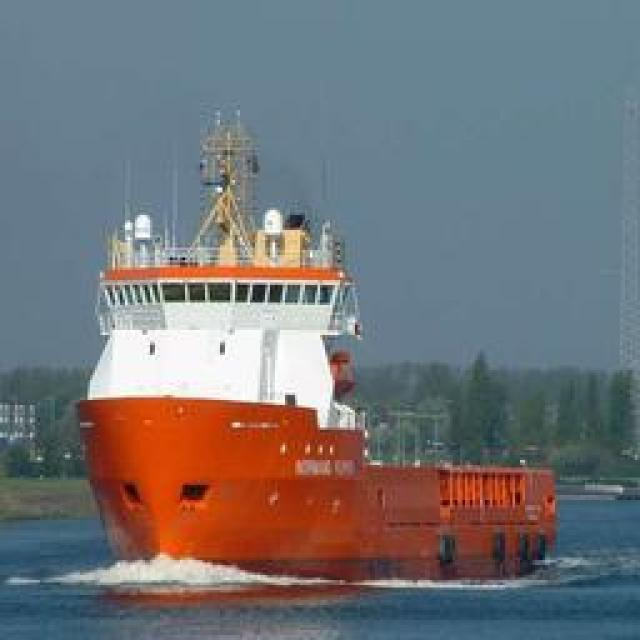CIV_Ship: (85, 100, 495, 580)
